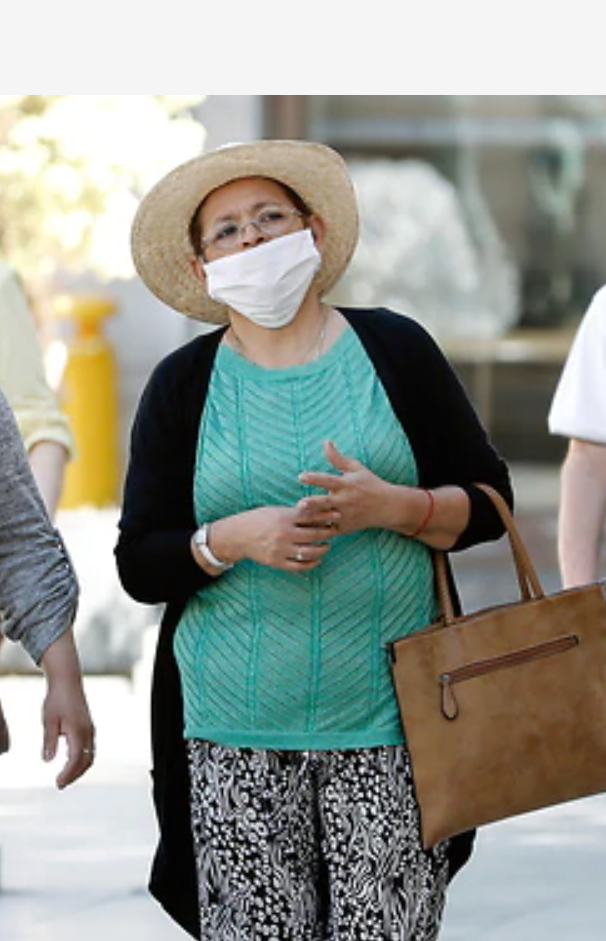mask_weared_incorrect: (186, 193, 334, 333)
